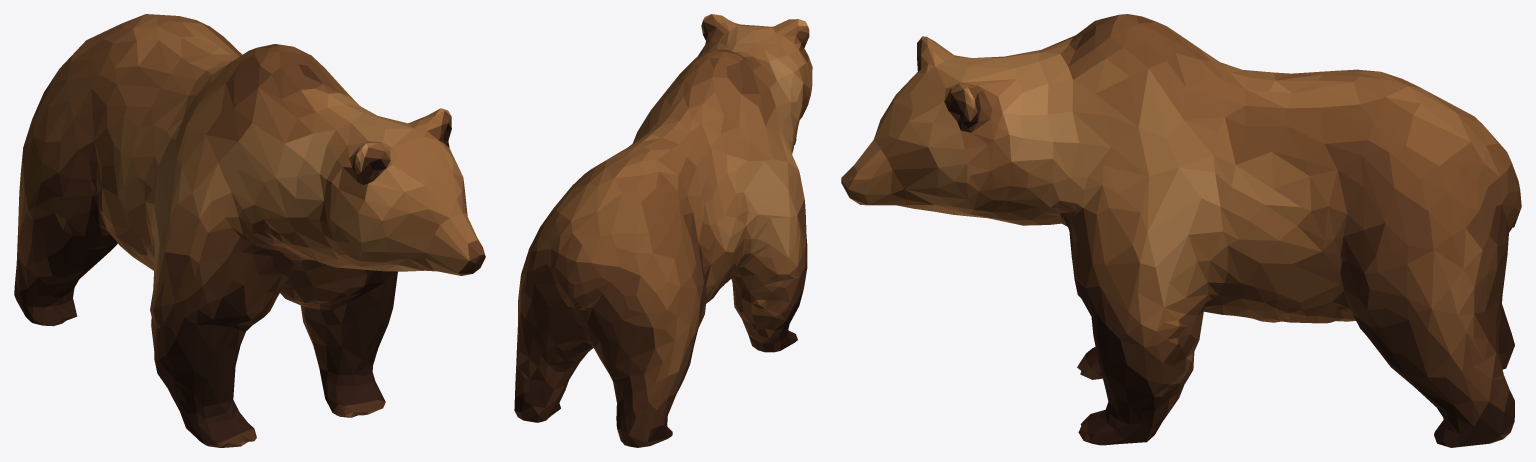
The model's file is wild-bear.glb.
The picture shows the model from 3 angles, left to right: view 1: azimuth 30°, elevation 25°; view 2: azimuth 150°, elevation 25°; view 3: azimuth 270°, elevation 25°; orthographic projection. The views are drawn at different scales.
Parts seen in each view (by area): view 1: low-poly-bear; view 2: low-poly-bear; view 3: low-poly-bear.
Part boxes in pixels (x1=…): low-poly-bear: x1=14, y1=14, x2=485, y2=447; low-poly-bear: x1=514, y1=14, x2=812, y2=447; low-poly-bear: x1=841, y1=14, x2=1521, y2=447.
Size of the model in its own units: 0.8177 by 1.24 by 1.99.
1 material, 1 textured.
